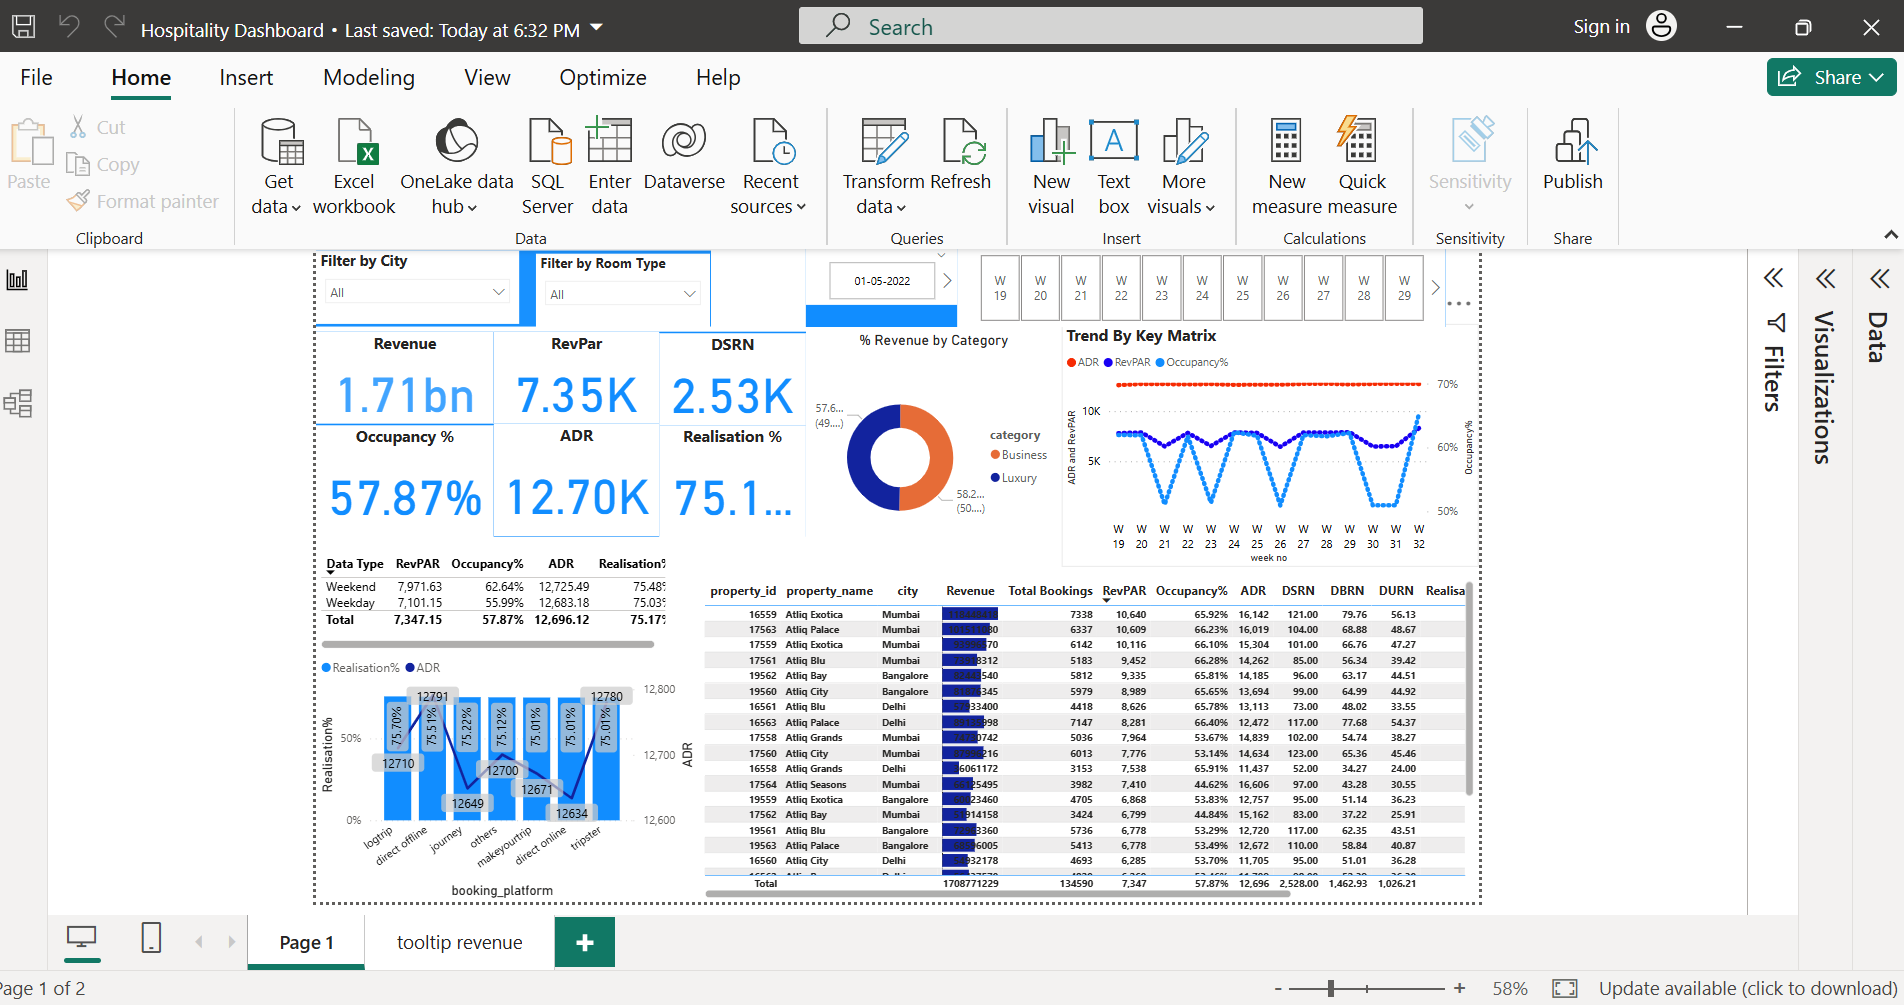

What the dashboard file says about the page in this screenshot:
{"tool":"powerbi","page":{"name":"Page 1","canvas":[1280,720],"ordinal":0},"visuals":[{"type":"tableEx","fields":{"Values":["dim_hotels.property_id","dim_hotels.property_name","dim_hotels.city","Key measure Table.Revenue","Key measure Table.Total Bookings","Key measure Table.RevPAR","Key measure Table.Occupancy%","Key measure Table.ADR","Key measure Table.DSRN","Key measure Table.DBRN","Key measure Table.DURN","Key measure Table.Realisation%"]},"box":[422.5,360.7,857.1,359],"z":0},{"type":"slicer","title":"Filter by City","fields":{"Values":["dim_hotels.city"]},"box":[0,1.7,223.7,80.7],"z":1000,"group":"g1"},{"type":"donutChart","title":"% Revenue by Category","fields":{"Category":["dim_hotels.category"],"Y":["Key measure Table.Occupancy%"]},"box":[539.3,91,281.7,259.4],"z":1000},{"type":"slicer","title":"Filter by Room Type","fields":{"Values":["dim_rooms.room_class"]},"box":[242.8,5.1,191.7,80.7],"z":2000,"group":"g1"},{"type":"lineChart","title":"Trend  By Key Matrix","fields":{"Category":["dim _date.week no","dim _date.mmm yy.Variation.Date Hierarchy.Month"],"Y":["Key measure Table.ADR","Key measure Table.RevPAR"],"Y2":["Key measure Table.Occupancy%"]},"box":[821,82.4,458.6,268],"z":2000},{"type":"slicer","fields":{"Values":["dim _date.mmm yy"]},"box":[539.3,0,166.6,61.8],"z":3000,"group":"g2"},{"type":"lineStackedColumnComboChart","fields":{"Category":["fact_bookings.booking_platform"],"Y":["Key measure Table.Realisation%"],"Y2":["Key measure Table.ADR"]},"box":[0,419.1,422.5,300.6],"z":3000},{"type":"slicer","fields":{"Values":["dim _date.week no"]},"box":[705.9,0,537.7,85.9],"z":4000,"group":"g2"},{"type":"tableEx","fields":{"Values":["dim _date.day_type","Key measure Table.RevPAR","Key measure Table.Occupancy%","Key measure Table.ADR","Key measure Table.Realisation%"]},"box":[0,331.5,389.9,113.4],"z":4000},{"type":"group","id":"g1","title":"Group 1","box":[0,1.7,434.6,84.2],"z":5000},{"type":"card","title":"Revenue","fields":{"Values":["Key measure Table.Revenue"]},"box":[0,91,195.8,101.3],"z":5000,"group":"g3"},{"type":"group","id":"g2","title":"Group 2","box":[539.3,0,704.2,85.9],"z":6000},{"type":"group","id":"g3","title":"Group 3","box":[0,91,539.3,226.7],"z":7000},{"type":"card","title":"RevPar","fields":{"Values":["Key measure Table.RevPAR"]},"box":[195.8,91,182.1,101.3],"z":8000,"group":"g3"},{"type":"card","title":"DSRN","fields":{"Values":["Key measure Table.DSRN"]},"box":[377.9,92.7,161.5,101.3],"z":10000,"group":"g3"},{"type":"card","title":"Occupancy %","fields":{"Values":["Key measure Table.Occupancy%"]},"box":[0,194.1,195.8,123.7],"z":11000,"group":"g3"},{"type":"card","title":"ADR","fields":{"Values":["Key measure Table.ADR"]},"box":[195.8,192.3,182.1,123.7],"z":12000,"group":"g3"},{"type":"card","title":"Realisation %","fields":{"Values":["Key measure Table.Realisation%"]},"box":[377.9,194.1,161.5,123.7],"z":13000,"group":"g3"}]}

Visuals, with their boxes on the page's 1280x720 design canvas (x1, y1, x2, y2). These are canvas units, not pixel positions in the 1904x1005 screenshot, which may show the page scaled, cropped or inside an application window:
tableEx - dim_hotels.property_id x dim_hotels.property_name: [422, 361, 1280, 720]
"Filter by City" slicer: [0, 2, 224, 82]
"% Revenue by Category" donutChart: [539, 91, 821, 350]
"Filter by Room Type" slicer: [243, 5, 434, 86]
"Trend  By Key Matrix" lineChart: [821, 82, 1280, 350]
slicer - dim _date.mmm yy: [539, 0, 706, 62]
lineStackedColumnComboChart - fact_bookings.booking_platform x Key measure Table.Realisation%: [0, 419, 422, 720]
slicer - dim _date.week no: [706, 0, 1244, 86]
tableEx - dim _date.day_type x Key measure Table.RevPAR: [0, 332, 390, 445]
"Group 1" group: [0, 2, 435, 86]
"Revenue" card: [0, 91, 196, 192]
"Group 2" group: [539, 0, 1244, 86]
"Group 3" group: [0, 91, 539, 318]
"RevPar" card: [196, 91, 378, 192]
"DSRN" card: [378, 93, 539, 194]
"Occupancy %" card: [0, 194, 196, 318]
"ADR" card: [196, 192, 378, 316]
"Realisation %" card: [378, 194, 539, 318]
